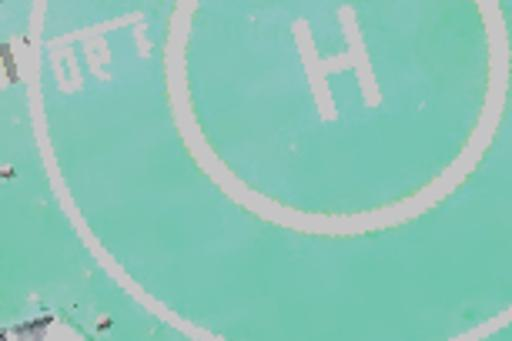Apron: (151, 1, 512, 242)
